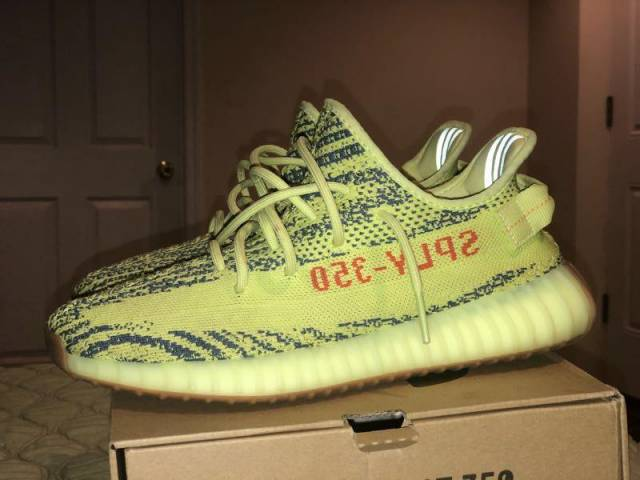Yeezy Semi-Frozen: (41, 91, 620, 412)
